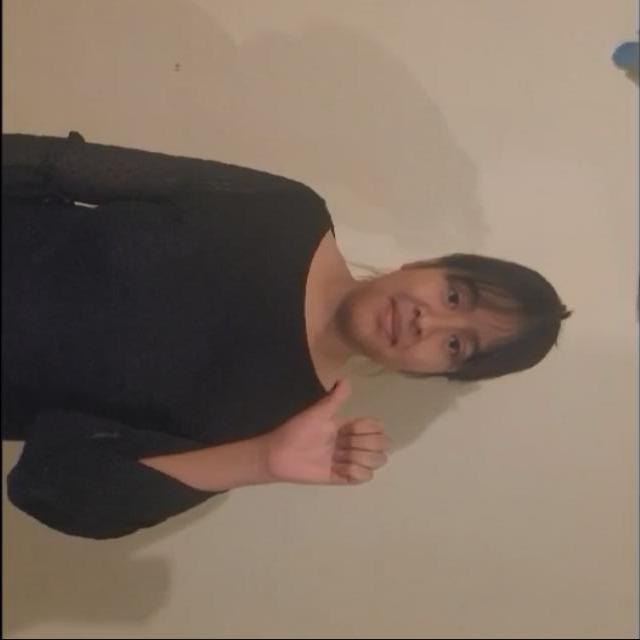A: (242, 369, 402, 504)
